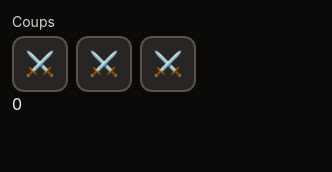
it: saisie tactile des dés › retoucher le dernier dé actif le retire
The width and height of the screenshot is (332, 172).
Click the button named "Coups, dé 2" at (104, 64), box [76,36,132,92]
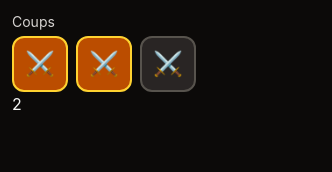
Click the button named "Coups, dé 2" at (104, 64), box [76,36,132,92]
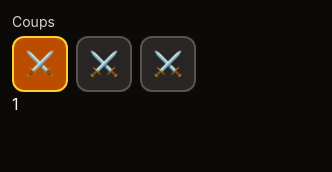
Check: the text with test id "val" reads "1", box [12,94,18,114]
